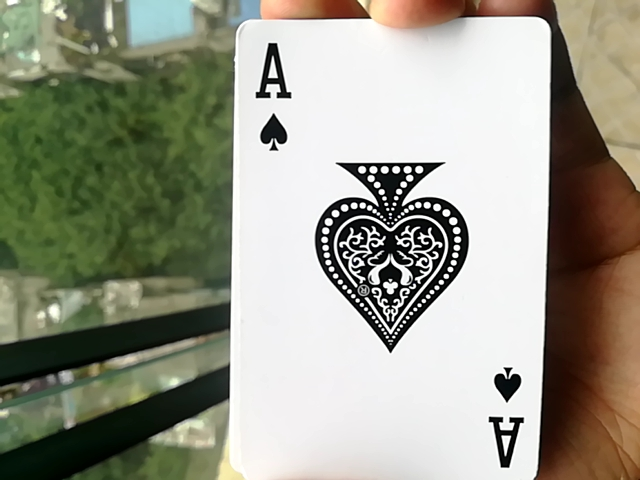ht a: (216, 34, 561, 480)
